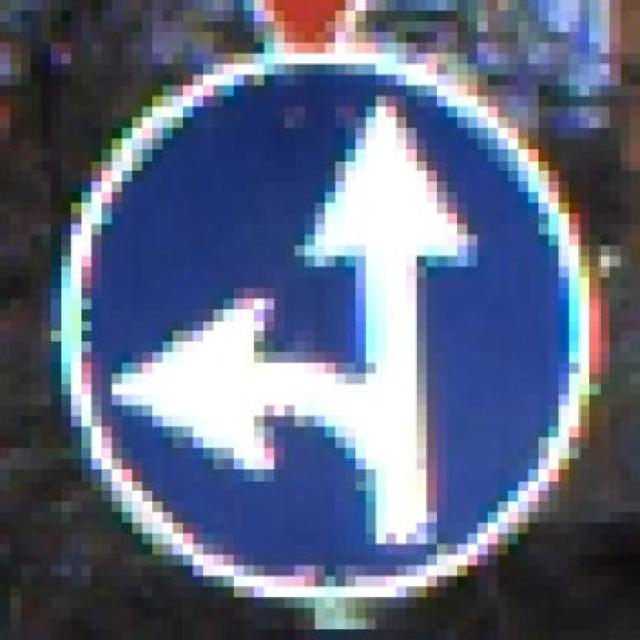Go straight or turn left: (41, 42, 610, 620)
